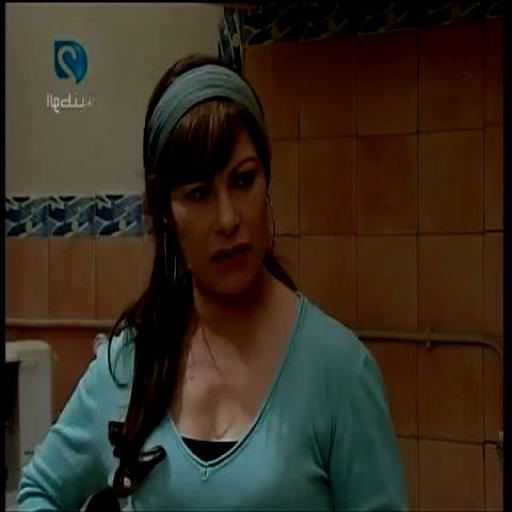zeineb: (170, 74, 269, 296)
